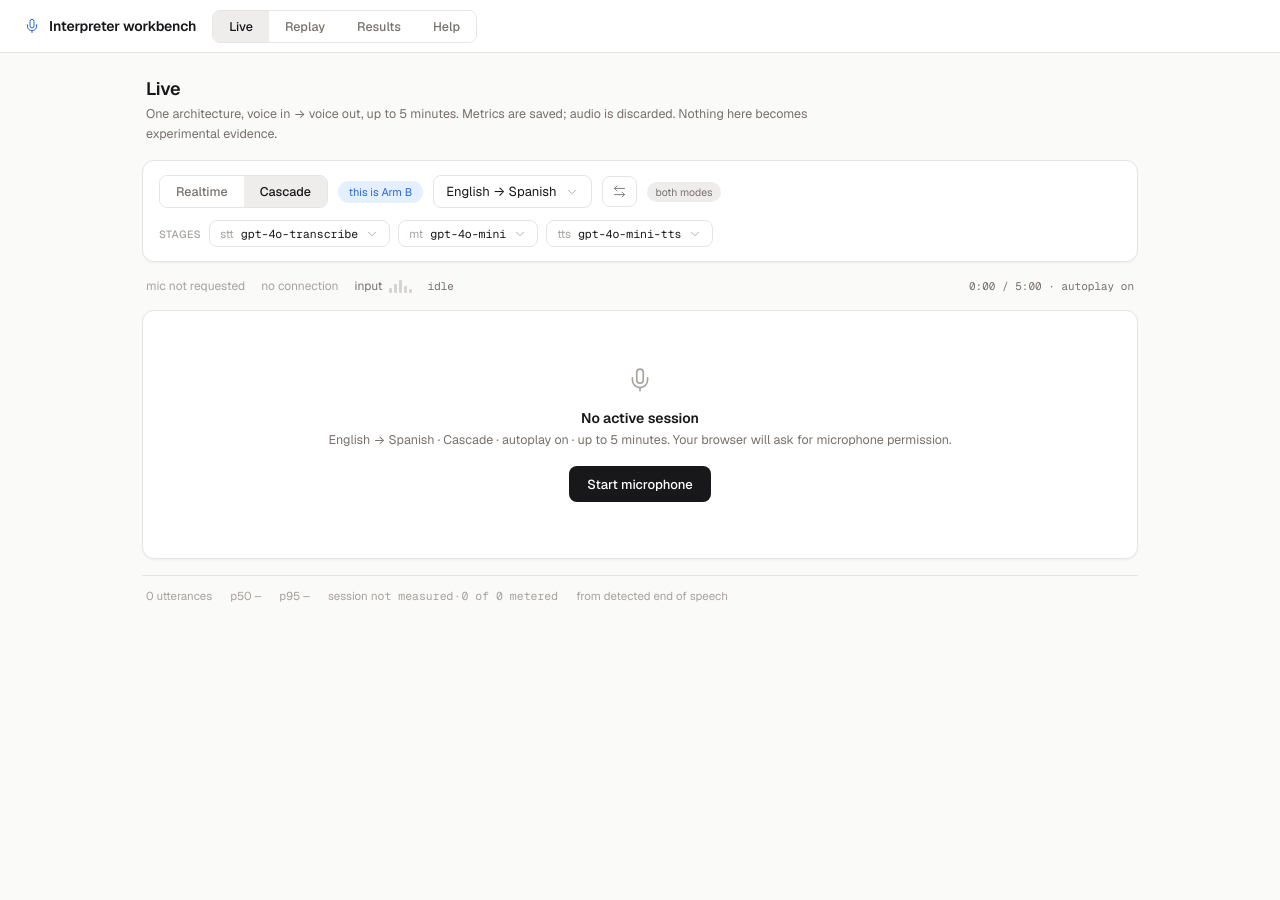
Test case: translated audio plays immediately, with ZERO user action › CASCADE: a THROWING playbackContextFactory must not stop the microphone (R3-1)
The width and height of the screenshot is (1280, 900).
Click the button "Start microphone".
click(640, 484)  # box [569,466,711,502]
Wait 1300 ms
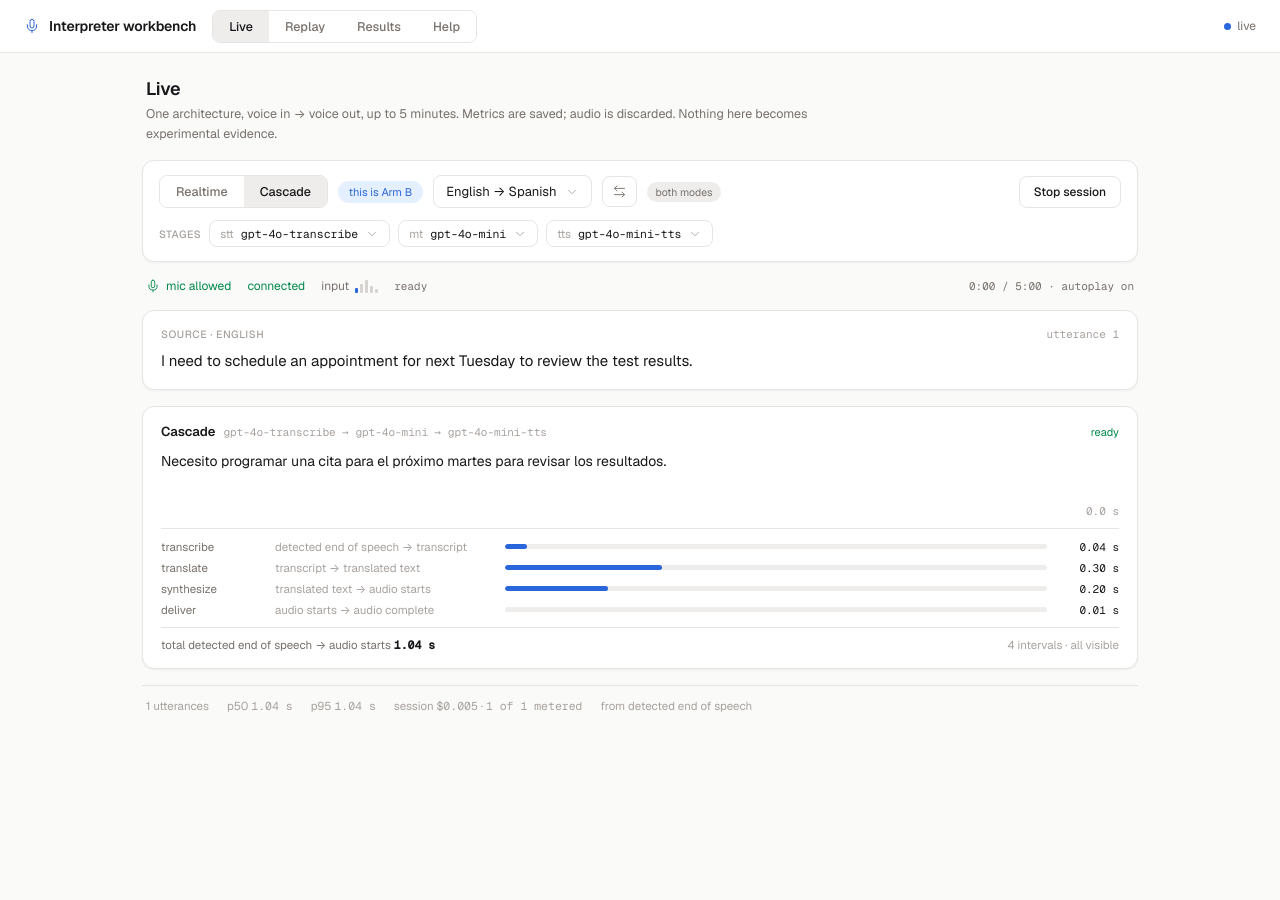
Expected: the button "Stop session" is shown, [1019,176,1121,208]
